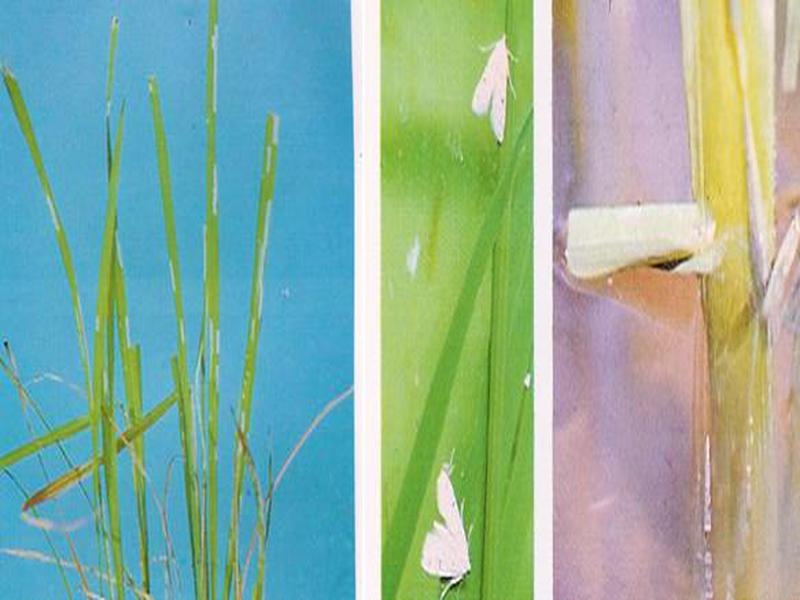Rice_case_worm: (557, 177, 736, 314), (395, 451, 477, 600), (452, 28, 521, 204)
